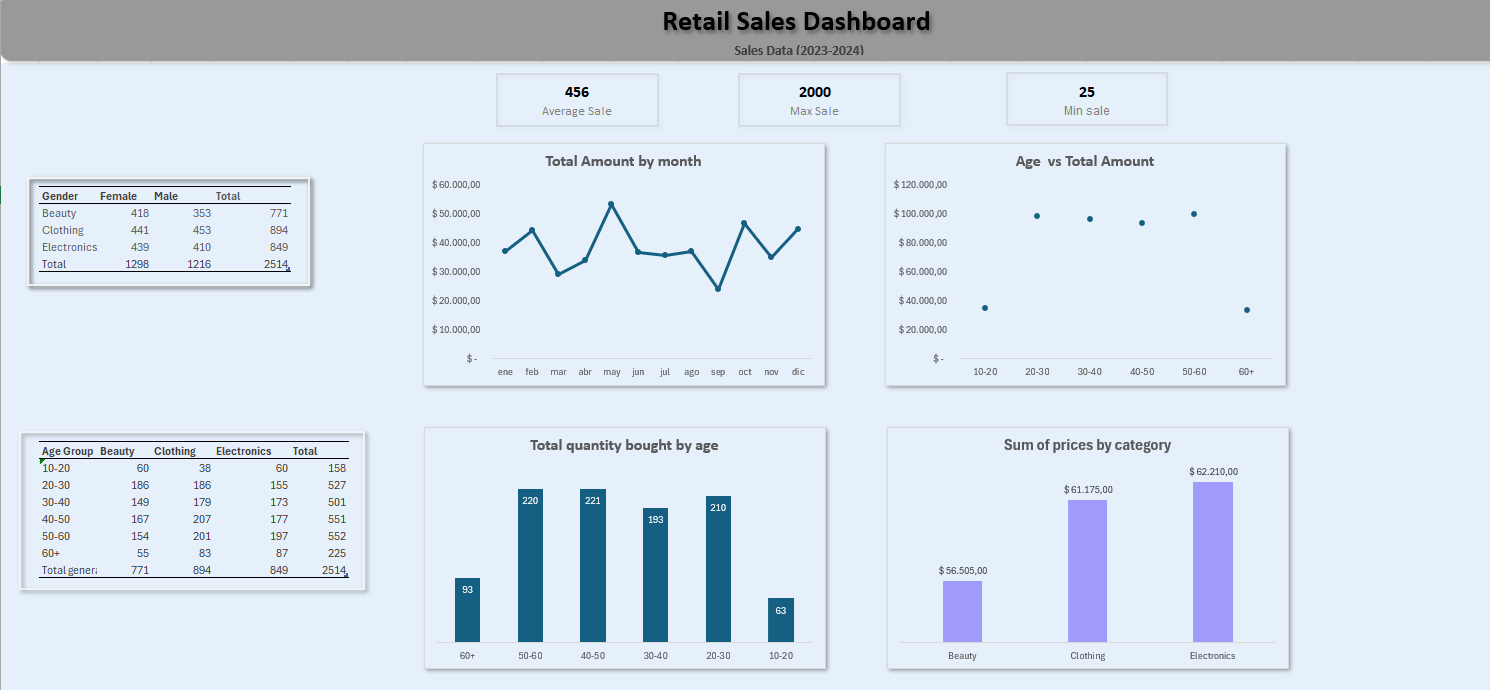

The page's visual inventory and layout, read from the dashboard file:
{"tool":"powerbi","page":{"name":"Página 2","canvas":[1280,720],"ordinal":1},"visuals":[{"type":"columnChart","title":"Sum of prices by category","fields":{"Category":["retail_sales_dataset__2.Product Category"],"Y":["Sum(retail_sales_dataset__2.Price per Unit)"]},"box":[813.8,447.8,399.7,259.7],"z":0},{"type":"lineChart","title":"Total amount by month ","fields":{"Y":["Sum(retail_sales_dataset__2.Total_amount)"],"Category":["Calendario.Date.Variación.Jerarquía de fechas.Año","Calendario.Date.Variación.Jerarquía de fechas.Mes"]},"box":[379.3,161.5,399.7,259.7],"z":1000},{"type":"scatterChart","title":"Age and total amount","fields":{"X":["retail_sales_dataset__2.Age group"],"Y":["Sum(retail_sales_dataset__2.Total Amount)"]},"box":[814.8,161.5,398.7,259.7],"z":2000},{"type":"columnChart","title":"Total quantity bought by age ","fields":{"Category":["retail_sales_dataset__2.Age group"],"Y":["Sum(retail_sales_dataset__2.Quantity)"]},"box":[379.3,447.8,399.7,259.7],"z":3000},{"type":"shape","box":[0,0,1280,82],"z":4000},{"type":"textbox","box":[10.1,0,1241.5,74.9],"z":5000},{"type":"textbox","box":[513,57.7,299.5,24.3],"z":6000},{"type":"pivotTable","fields":{"Rows":["retail_sales_dataset__2.Age group"],"Columns":["retail_sales_dataset__2.Product Category"],"Values":["Sum(retail_sales_dataset__2.Quantity)"]},"box":[0,497.9,337.4,183],"z":7000},{"type":"pivotTable","fields":{"Rows":["retail_sales_dataset__2.Gender"],"Columns":["retail_sales_dataset__2.Product Category"],"Values":["Sum(retail_sales_dataset__2.Quantity)"]},"box":[10.2,257.6,299.6,102.2],"z":8000}]}

Visuals, with their boxes on the page's 1280x720 design canvas (x1, y1, x2, y2). These are canvas units, not pixel positions in the 1490x690 screenshot, which may show the page scaled, cropped or inside an application window:
"Sum of prices by category" columnChart: {"left": 814, "top": 448, "right": 1214, "bottom": 708}
"Total amount by month " lineChart: {"left": 379, "top": 162, "right": 779, "bottom": 421}
"Age and total amount" scatterChart: {"left": 815, "top": 162, "right": 1214, "bottom": 421}
"Total quantity bought by age " columnChart: {"left": 379, "top": 448, "right": 779, "bottom": 708}
shape: {"left": 0, "top": 0, "right": 1280, "bottom": 82}
textbox: {"left": 10, "top": 0, "right": 1252, "bottom": 75}
textbox: {"left": 513, "top": 58, "right": 812, "bottom": 82}
pivotTable - retail_sales_dataset__2.Age group x retail_sales_dataset__2.Product Category: {"left": 0, "top": 498, "right": 337, "bottom": 681}
pivotTable - retail_sales_dataset__2.Gender x retail_sales_dataset__2.Product Category: {"left": 10, "top": 258, "right": 310, "bottom": 360}
